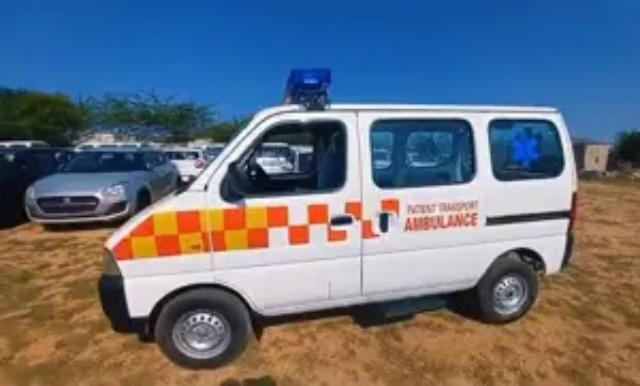ambulance: (96, 68, 578, 367)
